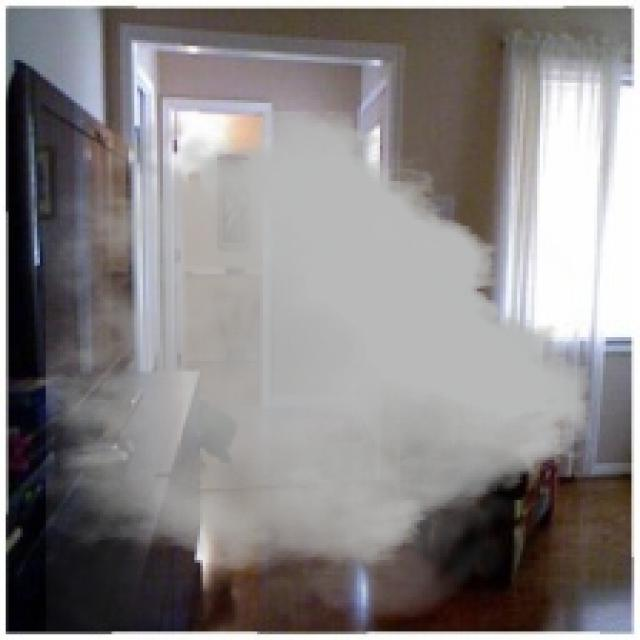smoke: (46, 103, 591, 631)
